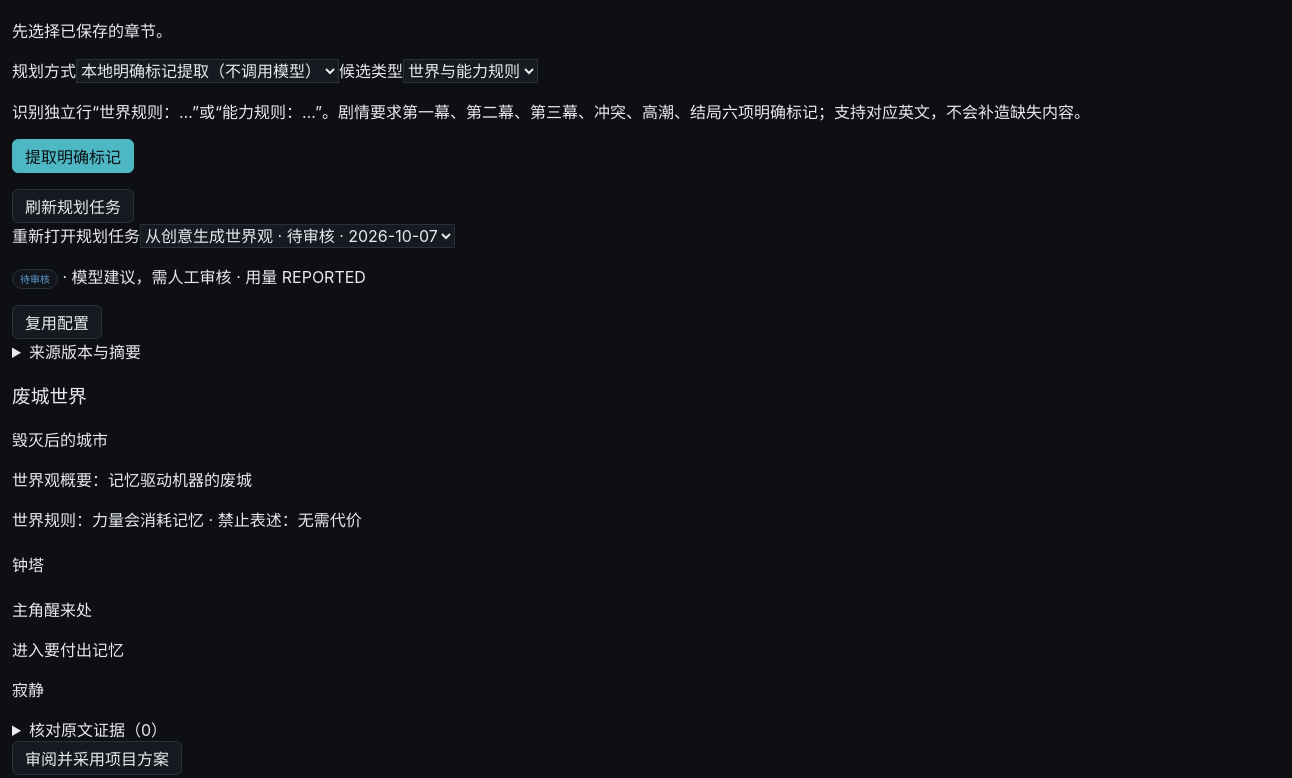
Test: canceling review never writes a candidate
Click the button "审阅并采用项目方案" at coordinates (97, 758), box 12,742 -> 182,776
(page scrolled)
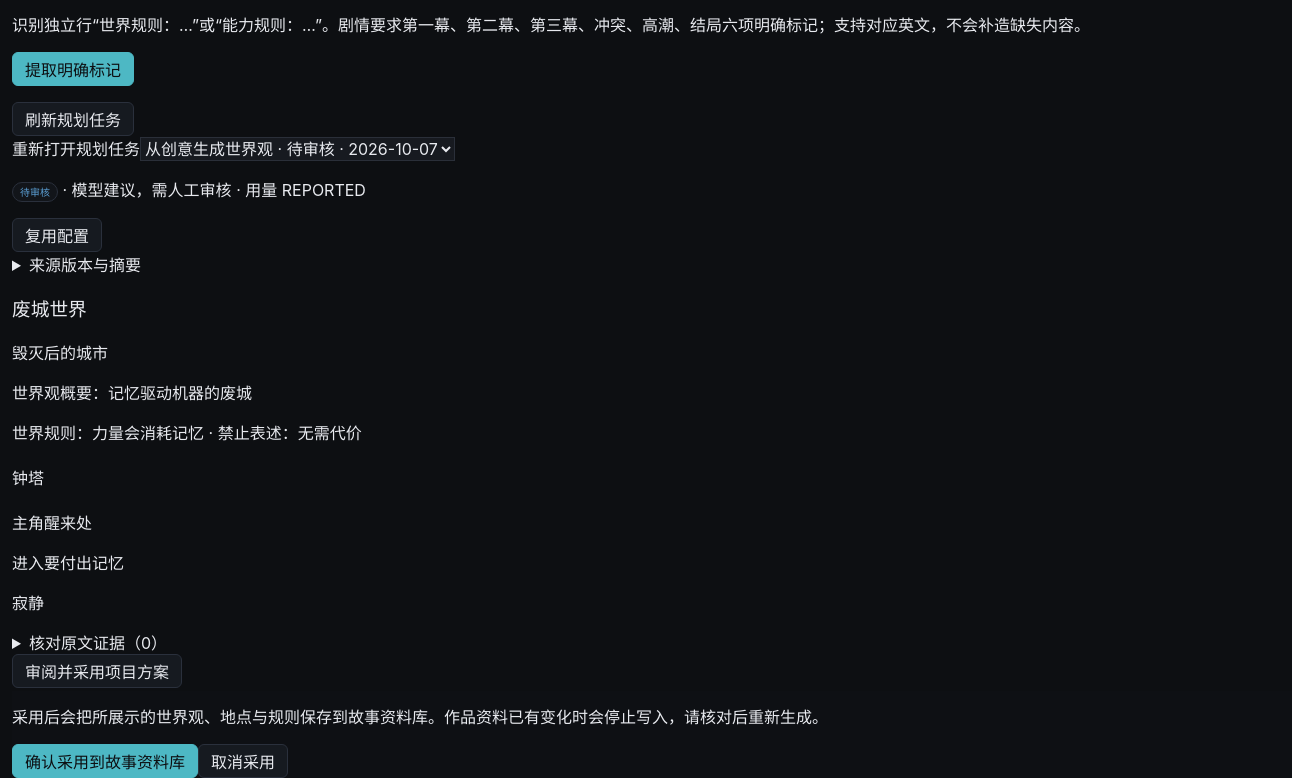
Click the button "取消采用" at coordinates (243, 762), box 198,744 -> 288,777
(page scrolled)
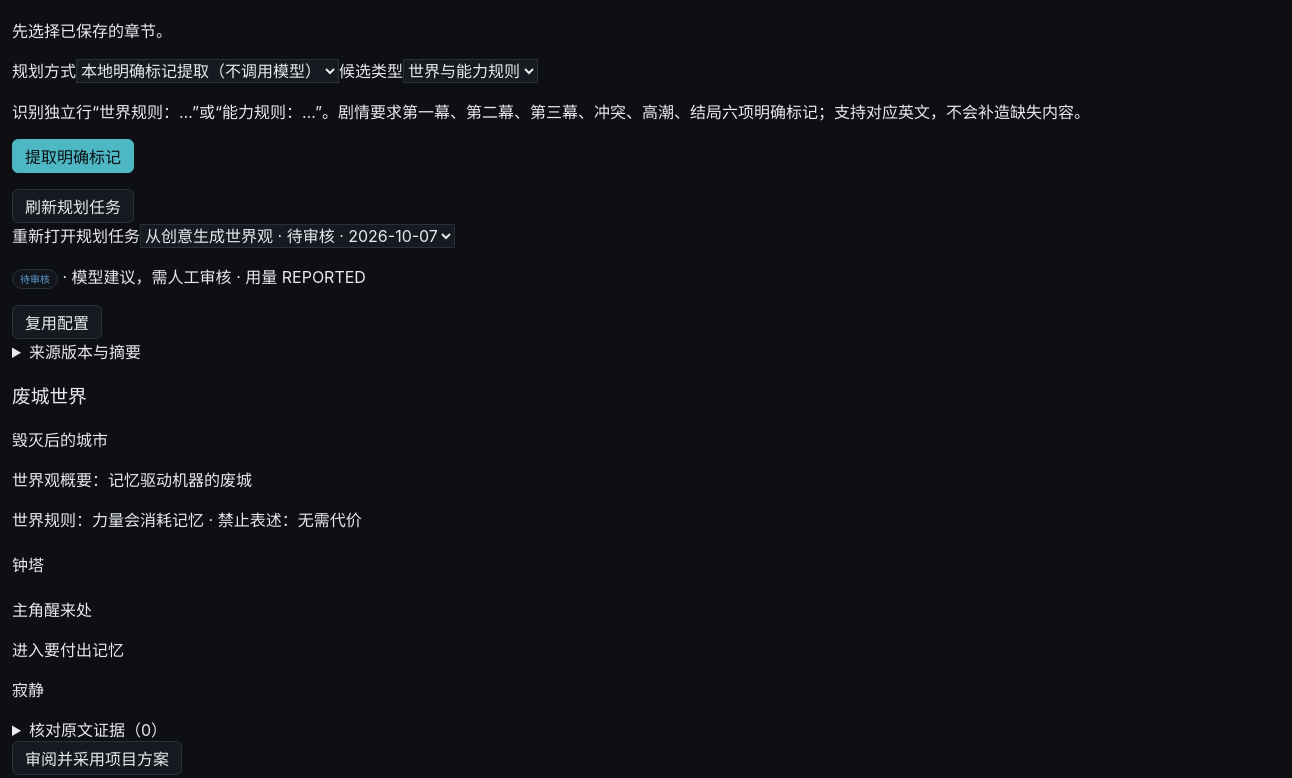
Expected: the element "确认采用项目方案" is gone
